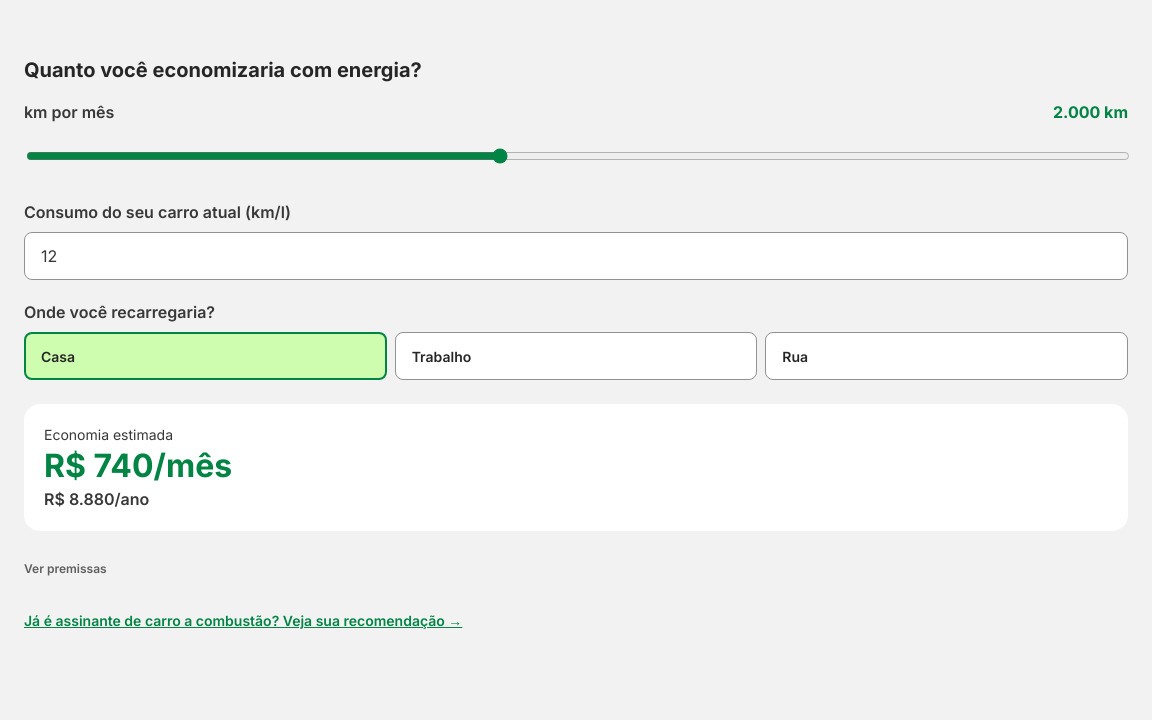
SimuladorEconomia › carro muito econômico + rua: avisa que não compensa
This screenshot has width=1152, height=720.
Replace the text in the field labelled "Consumo do seu carro atual (km/l)" with "20". click: coordinates (576, 256)
box: left=24, top=232, right=1128, bottom=280
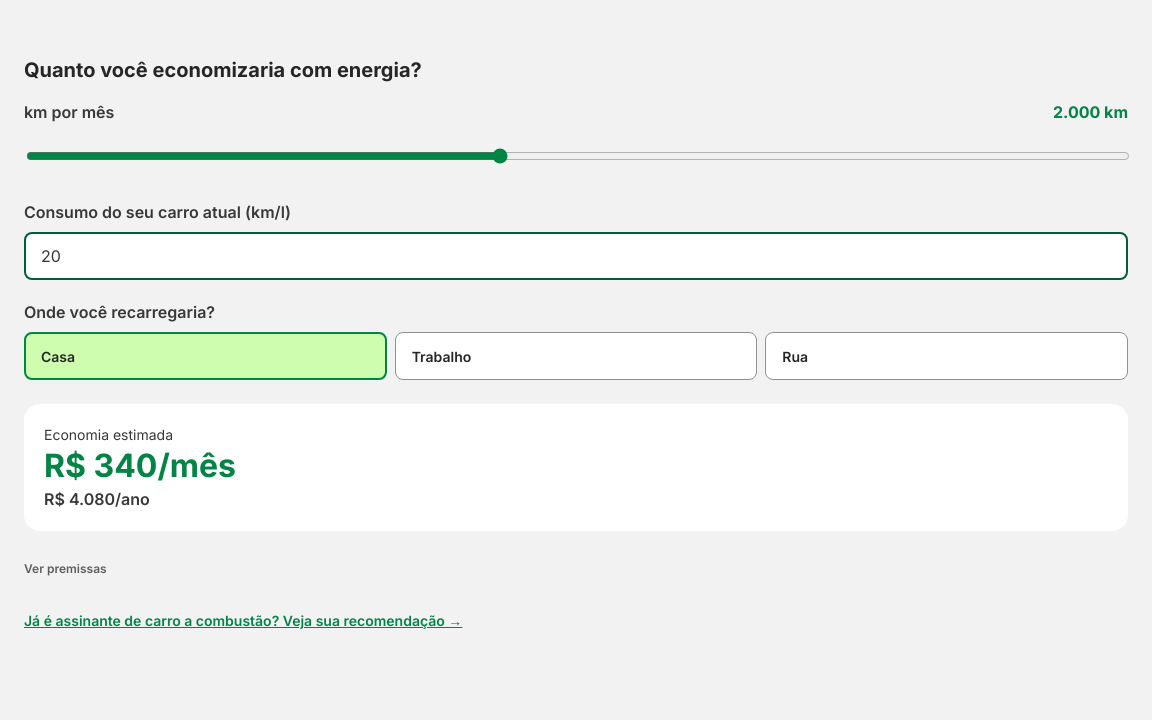
Click the radio button labelled "Rua". click: coordinates (795, 356)
box: left=765, top=332, right=1128, bottom=380
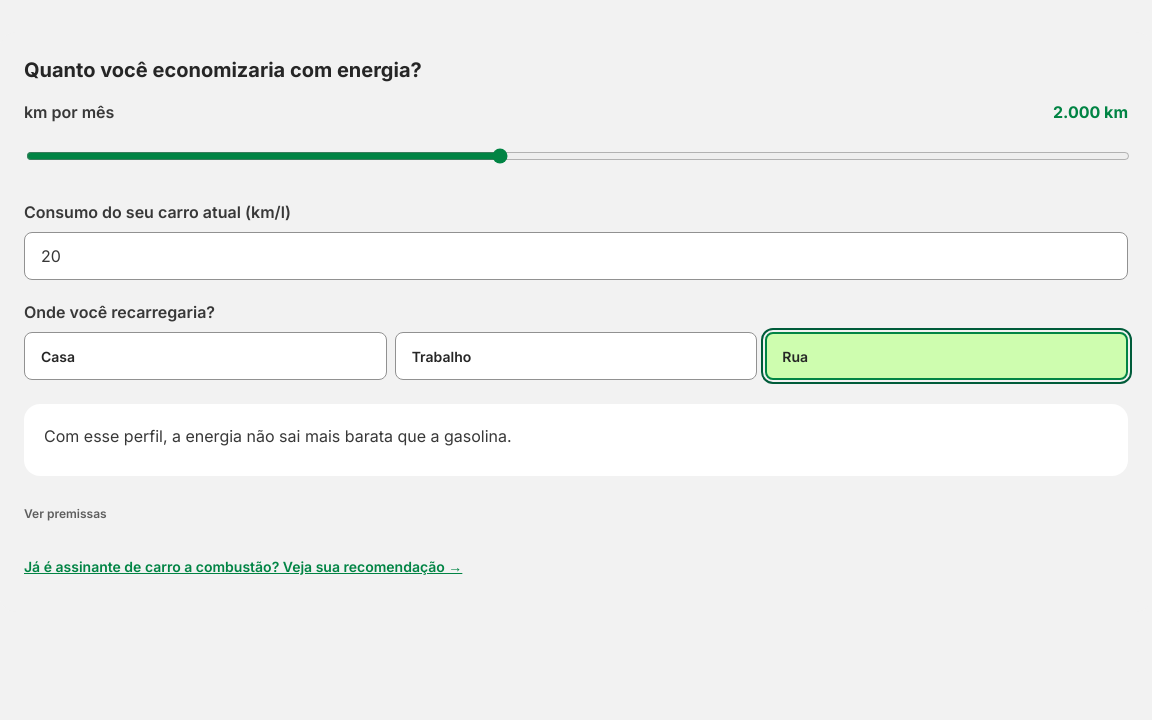
Expected: the text "a energia não sai mais barata" is shown, left=44, top=426, right=512, bottom=446
